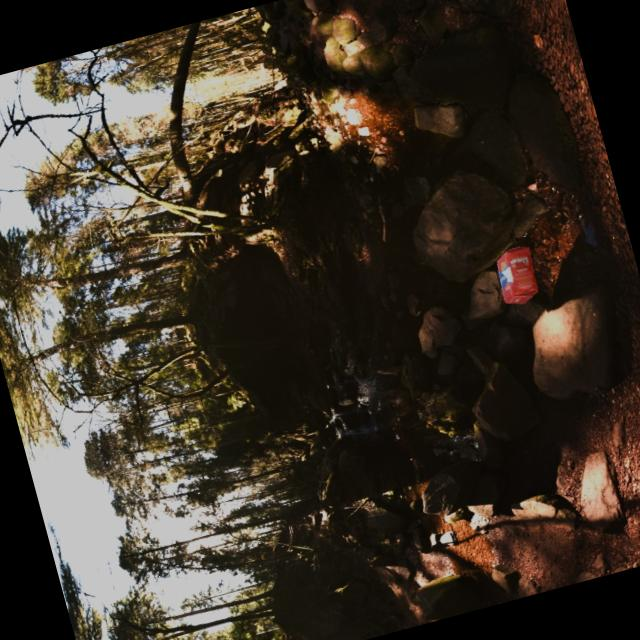mate bag: (488, 242, 542, 308)
